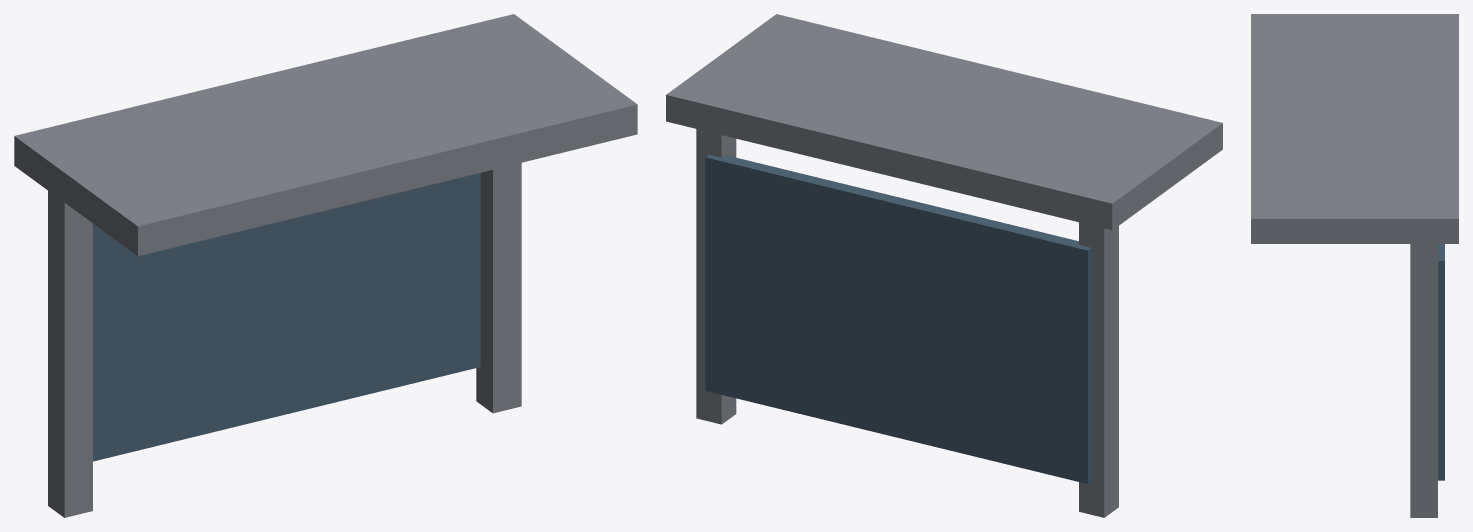
The model's file is bus_shelter.glb.
3 views of the same model, side by side, from view 1: azimuth 30°, elevation 25°; view 2: azimuth 150°, elevation 25°; view 3: azimuth 270°, elevation 25° (orthographic). The views are drawn at different scales.
Parts seen in each view (by area): view 1: bus_shelter_mesh; view 2: bus_shelter_mesh; view 3: bus_shelter_mesh.
Part boxes in pixels (x1,y1,x2,y2): bus_shelter_mesh: (14,14,637,517); bus_shelter_mesh: (666,14,1222,517); bus_shelter_mesh: (1251,14,1458,517).
Bounding box in the file's own units: 0.07 × 0.049 × 0.03.
